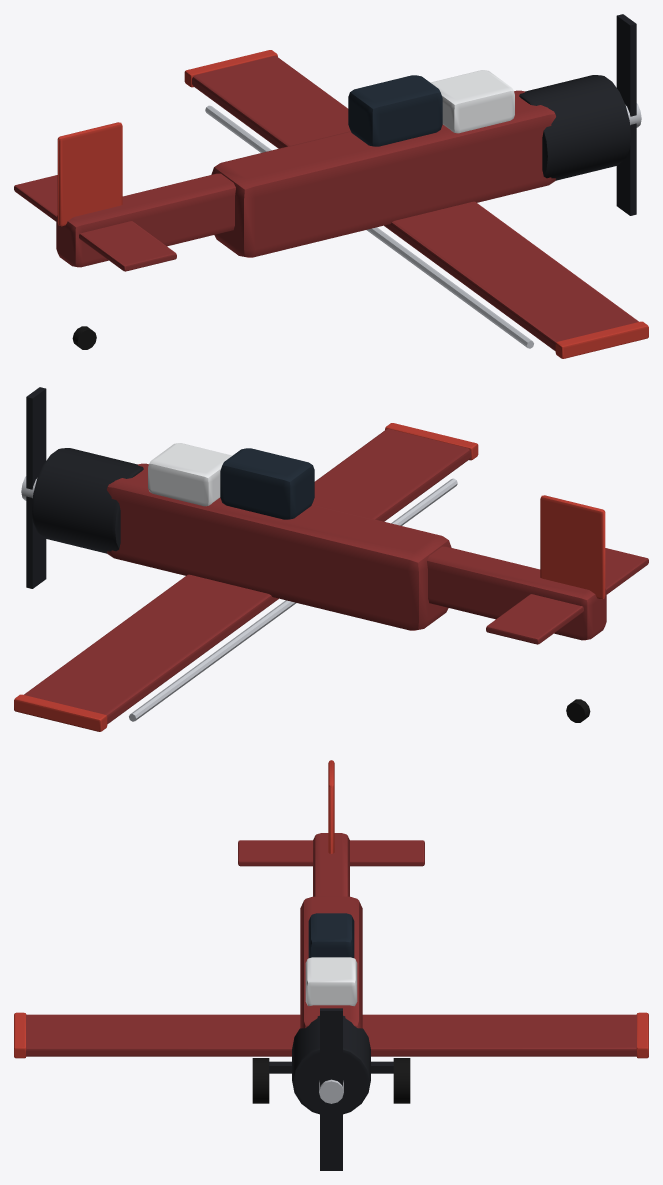
Rendered from cropduster.glb.
The picture shows the model from 3 angles, top to bottom: view 1: azimuth 30°, elevation 25°; view 2: azimuth 150°, elevation 25°; view 3: azimuth 270°, elevation 25°; orthographic projection. The views are drawn at different scales.
Parts seen in each view (by area): view 1: part-paint, part-tail-red, part-trim, part-chrome, part-glass, part-livery-white; view 2: part-paint, part-tail-red, part-trim, part-chrome, part-glass, part-livery-white; view 3: part-paint, part-trim, part-chrome, part-livery-white, part-glass, part-tail-red, part-tyre.
Boxes of the visible parts, x1,y1,x2,y2 form: part-paint: [14, 56, 638, 351]; part-tail-red: [57, 50, 648, 358]; part-trim: [519, 75, 630, 180]; part-chrome: [205, 14, 641, 348]; part-glass: [348, 75, 442, 146]; part-livery-white: [430, 70, 514, 133]; part-paint: [24, 429, 648, 724]; part-tail-red: [14, 423, 605, 731]; part-trim: [32, 448, 143, 553]; part-chrome: [21, 387, 457, 721]; part-glass: [220, 448, 314, 519]; part-livery-white: [148, 443, 232, 506]; part-paint: [26, 833, 636, 1056]; part-trim: [269, 1015, 393, 1114]; part-chrome: [319, 1008, 343, 1170]; part-livery-white: [305, 957, 357, 1006]; part-glass: [308, 913, 354, 957]; part-tail-red: [14, 760, 648, 1058]; part-tyre: [252, 1058, 410, 1103].
Size of the model in its own units: 53.8 by 19.4 by 61.2.
